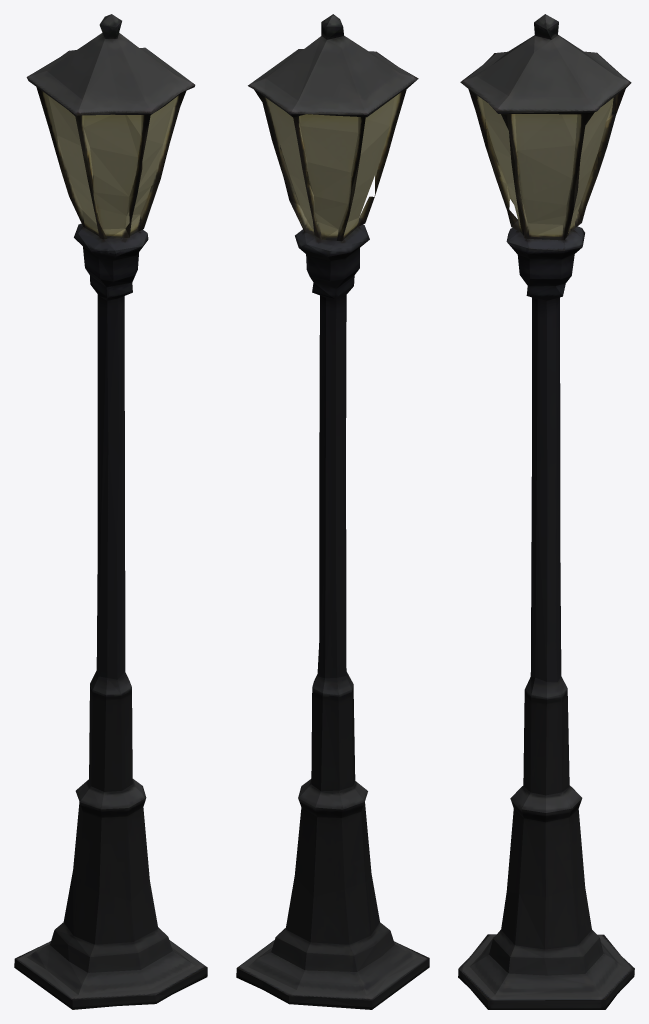
Rendered from street_lamp.glb.
3 renders of one model, left to right at view 1: azimuth 30°, elevation 25°; view 2: azimuth 150°, elevation 25°; view 3: azimuth 270°, elevation 25°, orthographic.
Visible parts, largest first — view 1: world; view 2: world; view 3: world.
Part boxes in pixels (x1,y1,x2,y2): world: [14, 14, 207, 1009]; world: [236, 14, 429, 1009]; world: [458, 14, 634, 1009].
Size of the model in its own units: 0.1478 by 1 by 0.1665.
1 material, 1 textured.
